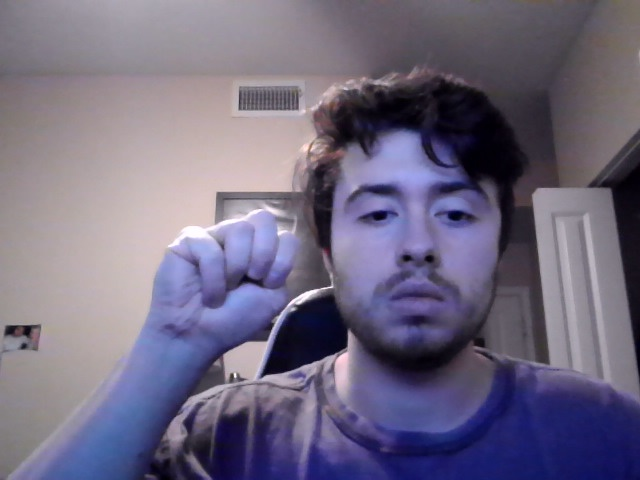m: (145, 208, 299, 364)
